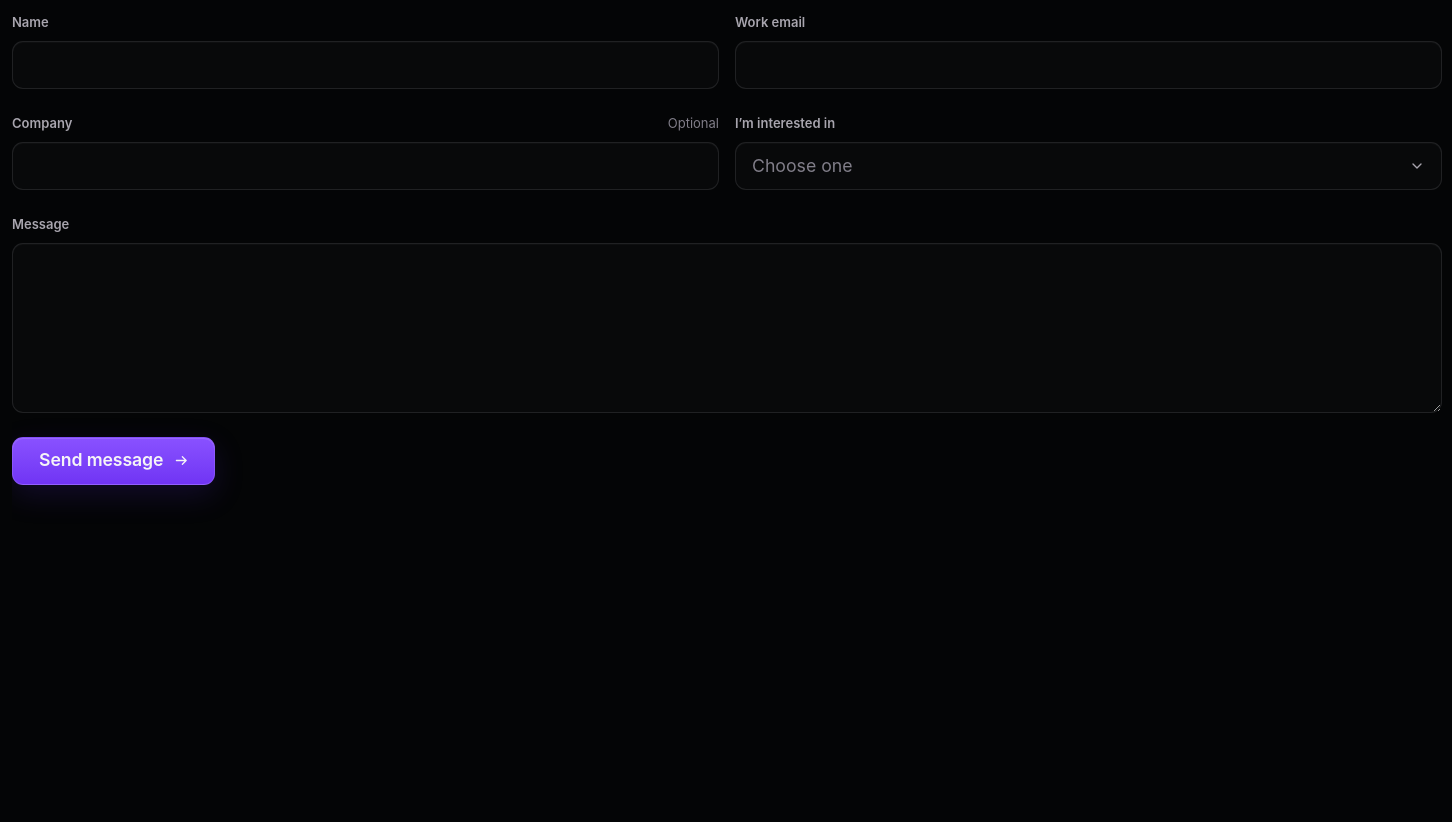
Test: ContactForm › validates before sending anything
Click the button "Send message" at (114, 461), box [12,437,215,485]
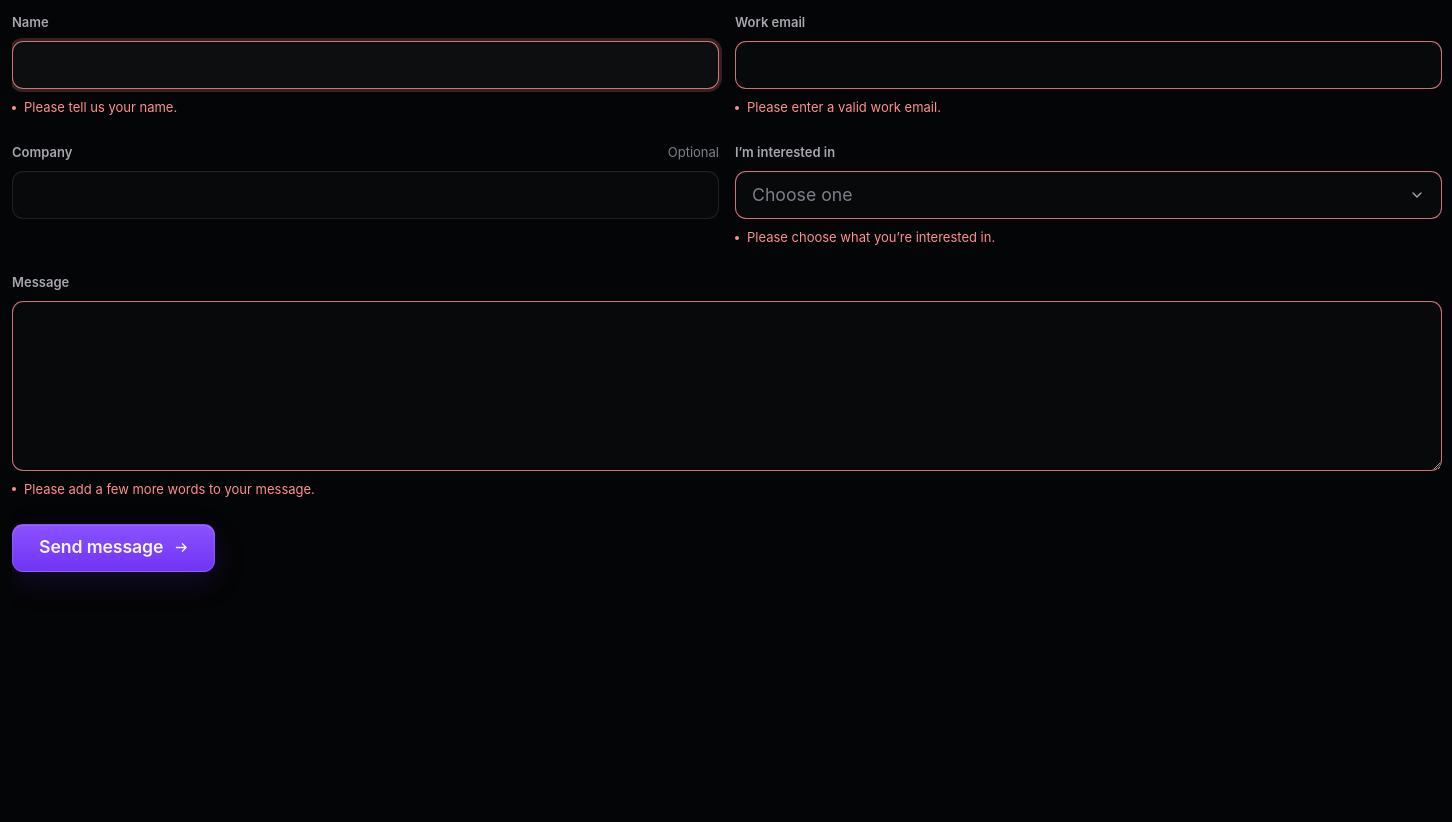
Expected: the text "Please tell us your name." is shown, [12,99,177,115]
